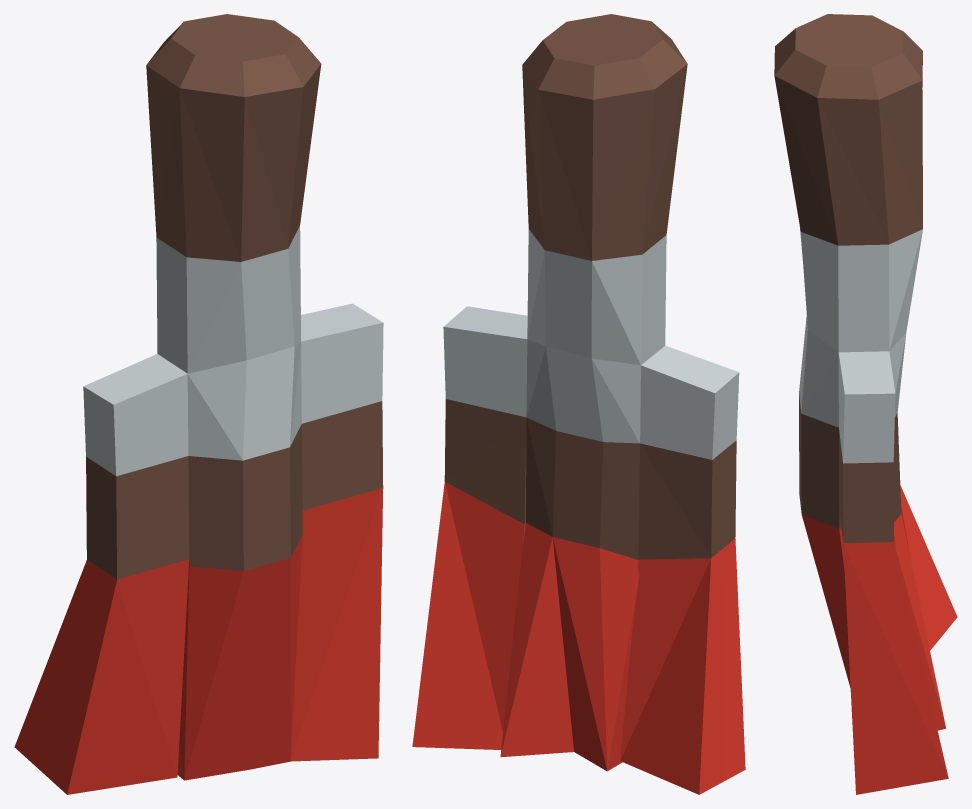
Rendered from paint-brush-by-don-carson-DZxhS2tNqC.glb.
The picture shows the model from 3 angles, left to right: view 1: azimuth 30°, elevation 25°; view 2: azimuth 150°, elevation 25°; view 3: azimuth 270°, elevation 25°; orthographic projection. The views are drawn at different scales.
Parts seen in each view (by area): view 1: Paint Brush; view 2: Paint Brush; view 3: Paint Brush.
Boxes of the visible parts, <box> form: Paint Brush: <box>14,14,383,794</box>; Paint Brush: <box>412,14,745,794</box>; Paint Brush: <box>774,14,957,794</box>.
Bounding box in the file's own units: 0.0827 × 0.1956 × 0.0469.
